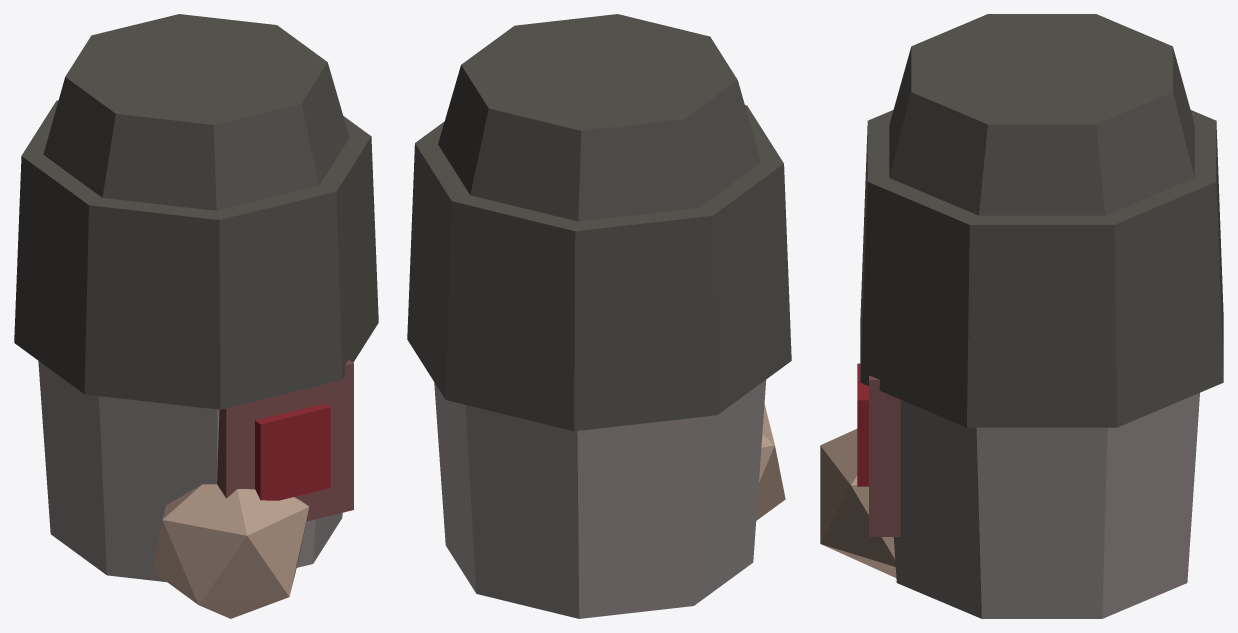
The model's file is inf_v2_walker_upper_leg_r.fbx.
3 views of the same model, side by side, from view 1: azimuth 30°, elevation 25°; view 2: azimuth 150°, elevation 25°; view 3: azimuth 270°, elevation 25° (orthographic). The views are drawn at different scales.
Visible parts, largest first — view 1: inf_v2_walker_upper_leg_r; view 2: inf_v2_walker_upper_leg_r; view 3: inf_v2_walker_upper_leg_r.
Part boxes in pixels (<box>): inf_v2_walker_upper_leg_r: <box>14,14,378,618</box>; inf_v2_walker_upper_leg_r: <box>407,14,791,618</box>; inf_v2_walker_upper_leg_r: <box>820,14,1223,618</box>.
Size of the model in its own units: 92.39 by 148 by 103.
